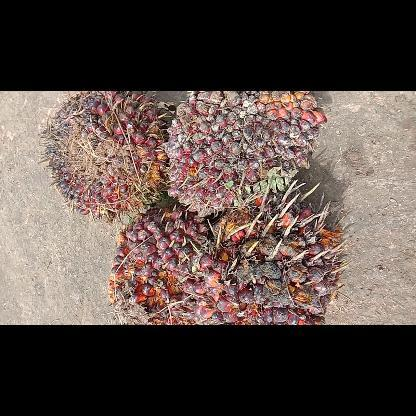Kurang masak: (160, 91, 330, 219), (36, 90, 170, 224)
TBS masak: (192, 203, 356, 323), (104, 204, 222, 324)
